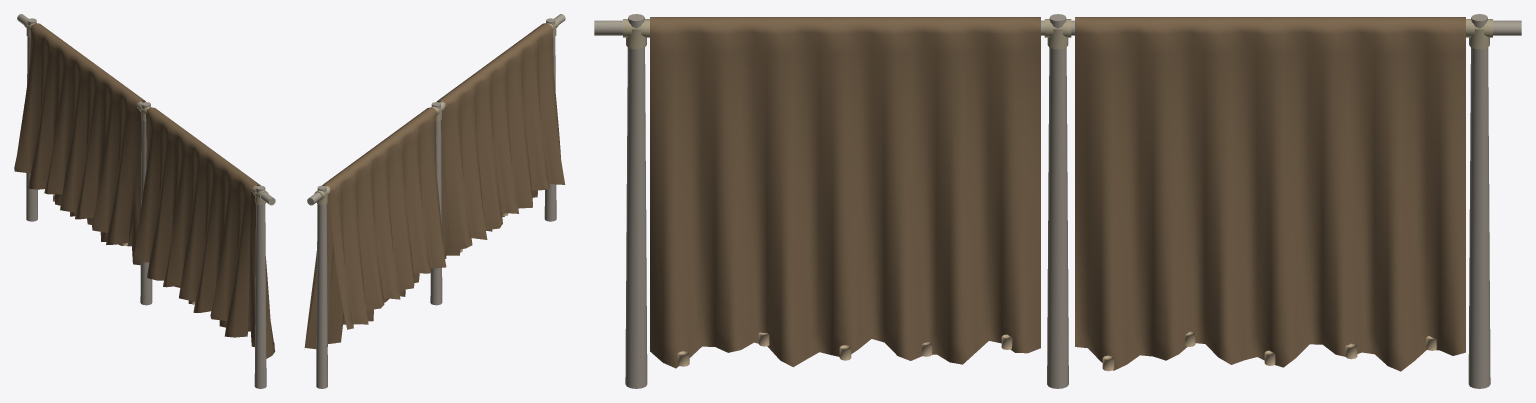
Rendered from net-rack.glb.
The picture shows the model from 3 angles, left to right: view 1: azimuth 30°, elevation 25°; view 2: azimuth 150°, elevation 25°; view 3: azimuth 270°, elevation 25°; orthographic projection. The views are drawn at different scales.
Visible parts, largest first — view 1: cork; view 2: cork; view 3: cork.
Boxes of the visible parts, x1=… form: cork: x1=14, y1=14, x2=275, y2=388; cork: x1=304, y1=14, x2=565, y2=388; cork: x1=594, y1=14, x2=1521, y2=388.
Size of the model in its own units: 0.6929 by 2.4 by 5.5.
